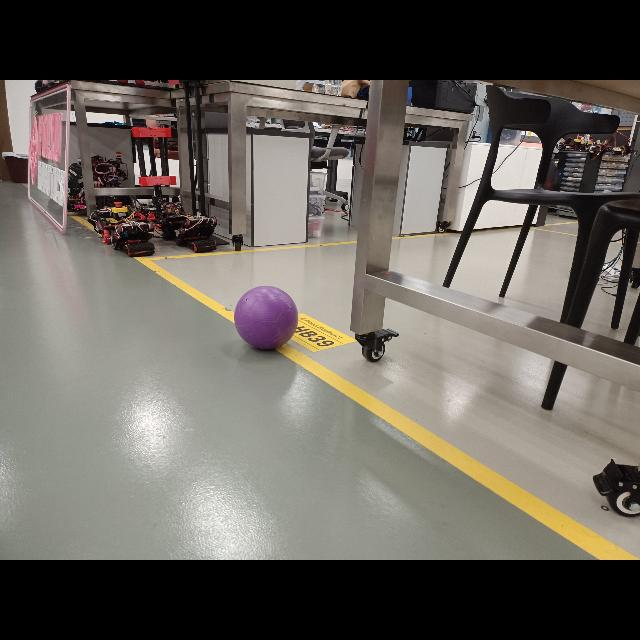P: (234, 285, 300, 351)
